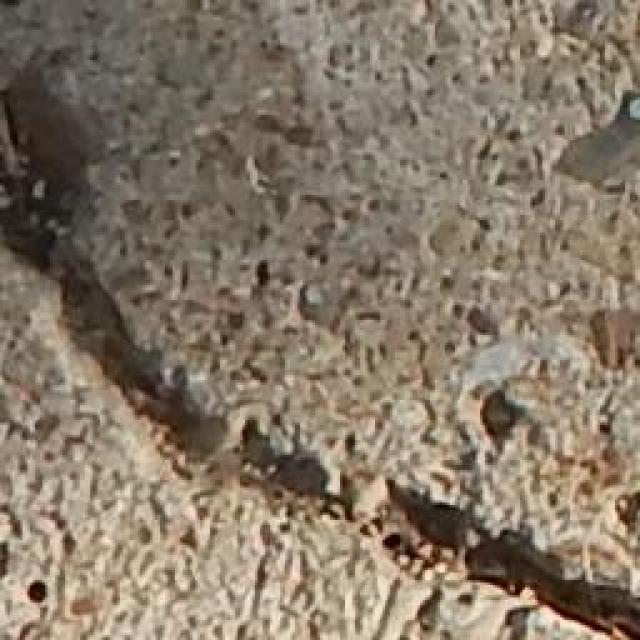concrete-crack: (0, 64, 640, 640)
